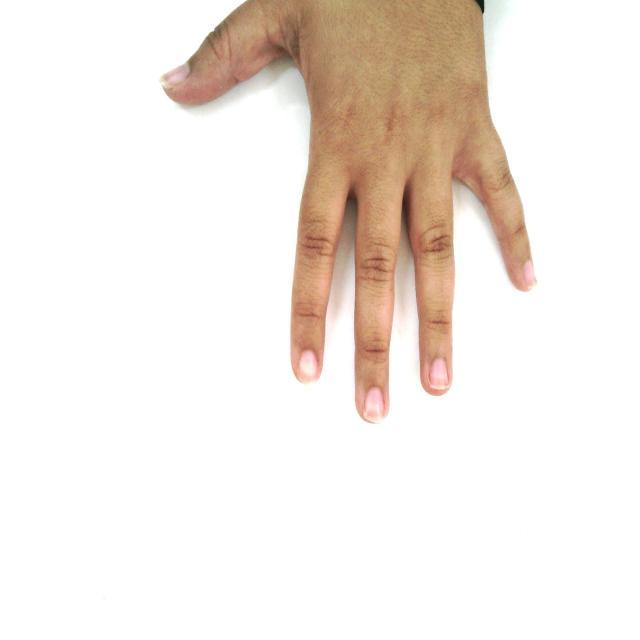Fingernail: (365, 388, 386, 423), (162, 63, 188, 86), (299, 350, 318, 381), (429, 358, 448, 389), (523, 261, 536, 287)
